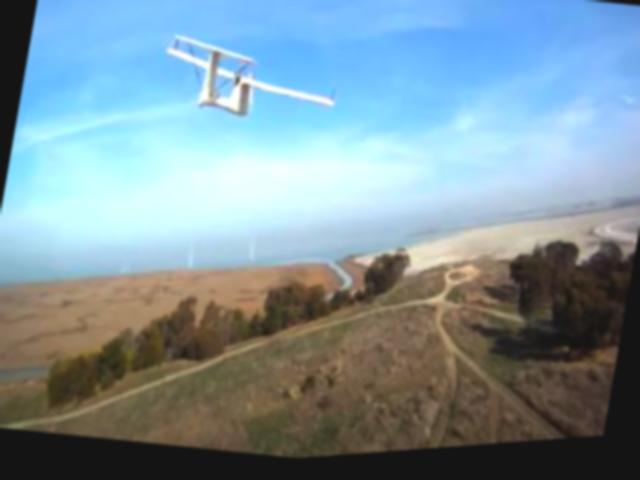uav: (154, 21, 346, 140)
